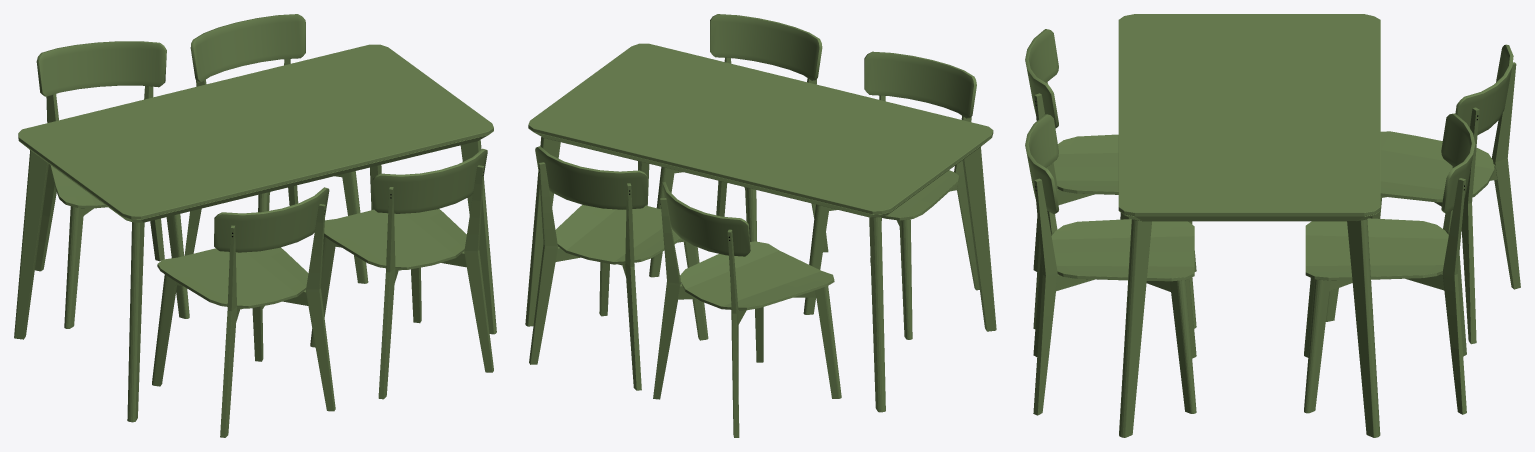
Rendered from LISABO_by_IKEA__corona.fbx.
3 renders of one model, left to right at view 1: azimuth 30°, elevation 25°; view 2: azimuth 150°, elevation 25°; view 3: azimuth 270°, elevation 25°, orthographic. The views are drawn at different scales.
Parts seen in each view (by area): view 1: LISABO_by_IKEA_005, LISABO_by_IKEA_007, LISABO_by_IKEA_010, LISABO_by_IKEA_004, LISABO_by_IKEA_014, LISABO_by_IKEA_012, LISABO_by_IKEA_009, LISABO_by_IKEA_002, LISABO_by_IKEA_006, LISABO_by_IKEA_001; view 2: LISABO_by_IKEA_005, LISABO_by_IKEA_014, LISABO_by_IKEA_002, LISABO_by_IKEA_004, LISABO_by_IKEA_007, LISABO_by_IKEA_006, LISABO_by_IKEA_001, LISABO_by_IKEA_010, LISABO_by_IKEA_012, LISABO_by_IKEA_009; view 3: LISABO_by_IKEA_005, LISABO_by_IKEA_002, LISABO_by_IKEA_010, LISABO_by_IKEA_004, LISABO_by_IKEA_014, LISABO_by_IKEA_001, LISABO_by_IKEA_009, LISABO_by_IKEA_007, LISABO_by_IKEA_006, LISABO_by_IKEA_012.
Boxes of the visible parts, box(x1,y1,x2,y2) form: LISABO_by_IKEA_005: box(18, 44, 493, 222); LISABO_by_IKEA_007: box(157, 187, 329, 308); LISABO_by_IKEA_010: box(324, 148, 487, 269); LISABO_by_IKEA_004: box(14, 140, 496, 422); LISABO_by_IKEA_014: box(36, 41, 166, 208); LISABO_by_IKEA_012: box(152, 204, 335, 437); LISABO_by_IKEA_009: box(310, 165, 493, 399); LISABO_by_IKEA_002: box(190, 14, 305, 82); LISABO_by_IKEA_006: box(35, 86, 189, 328); LISABO_by_IKEA_001: box(184, 59, 368, 308); LISABO_by_IKEA_005: box(528, 43, 993, 217); LISABO_by_IKEA_014: box(662, 182, 834, 310); LISABO_by_IKEA_002: box(535, 146, 682, 264); LISABO_by_IKEA_004: box(525, 137, 996, 412); LISABO_by_IKEA_007: box(864, 51, 976, 220); LISABO_by_IKEA_006: box(653, 198, 841, 437); LISABO_by_IKEA_001: box(529, 162, 708, 390); LISABO_by_IKEA_010: box(710, 14, 822, 80); LISABO_by_IKEA_012: box(803, 95, 979, 339); LISABO_by_IKEA_009: box(649, 58, 828, 277); LISABO_by_IKEA_005: box(1118, 14, 1380, 221); LISABO_by_IKEA_002: box(1305, 113, 1475, 280); LISABO_by_IKEA_010: box(1025, 114, 1194, 281); LISABO_by_IKEA_004: box(1119, 213, 1380, 437); LISABO_by_IKEA_014: box(1380, 44, 1513, 202); LISABO_by_IKEA_001: box(1304, 166, 1466, 414); LISABO_by_IKEA_009: box(1033, 167, 1196, 415); LISABO_by_IKEA_007: box(1025, 29, 1118, 194); LISABO_by_IKEA_006: box(1326, 62, 1520, 344); LISABO_by_IKEA_012: box(1033, 82, 1196, 328).
Size of the model in its own units: 140 by 79.64 by 147.
